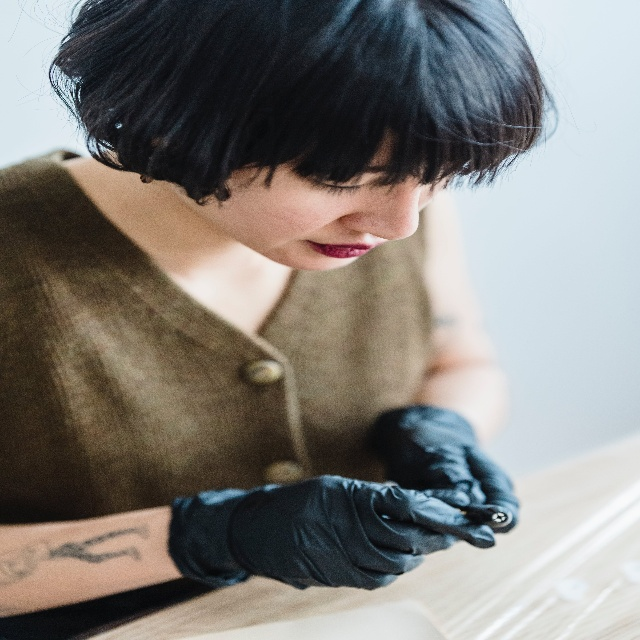Guantes: (217, 470, 493, 604), (387, 398, 520, 529)
